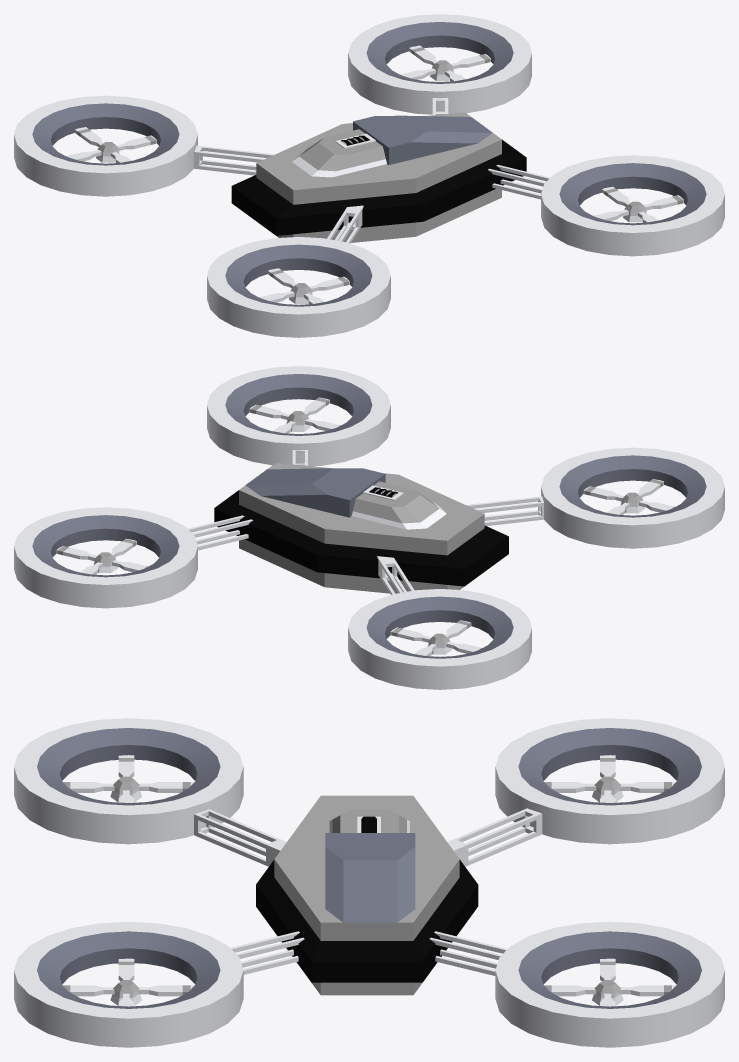
The model's file is drone.fbx.
3 renders of one model, top to bottom at view 1: azimuth 30°, elevation 25°; view 2: azimuth 150°, elevation 25°; view 3: azimuth 270°, elevation 25°, orthographic. The views are drawn at different scales.
Parts seen in each view (by area): view 1: FDDroid.001; view 2: FDDroid.001; view 3: FDDroid.001.
Part boxes in pixels (x1,y1,x2,y2): FDDroid.001: (14, 14, 724, 337); FDDroid.001: (14, 366, 724, 689); FDDroid.001: (14, 718, 724, 1047).
Bounding box in the file's own units: 443 × 65 × 443.
